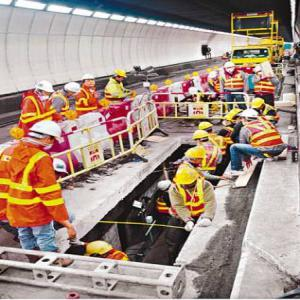white: (28, 121, 63, 150), (34, 80, 55, 101), (239, 110, 261, 126), (63, 82, 82, 98), (81, 76, 98, 90), (158, 180, 174, 193), (223, 62, 237, 74)
yellow: (174, 168, 201, 191), (188, 148, 208, 165), (193, 130, 209, 145), (229, 110, 243, 124), (200, 122, 215, 135), (114, 71, 128, 82), (254, 99, 267, 109)
